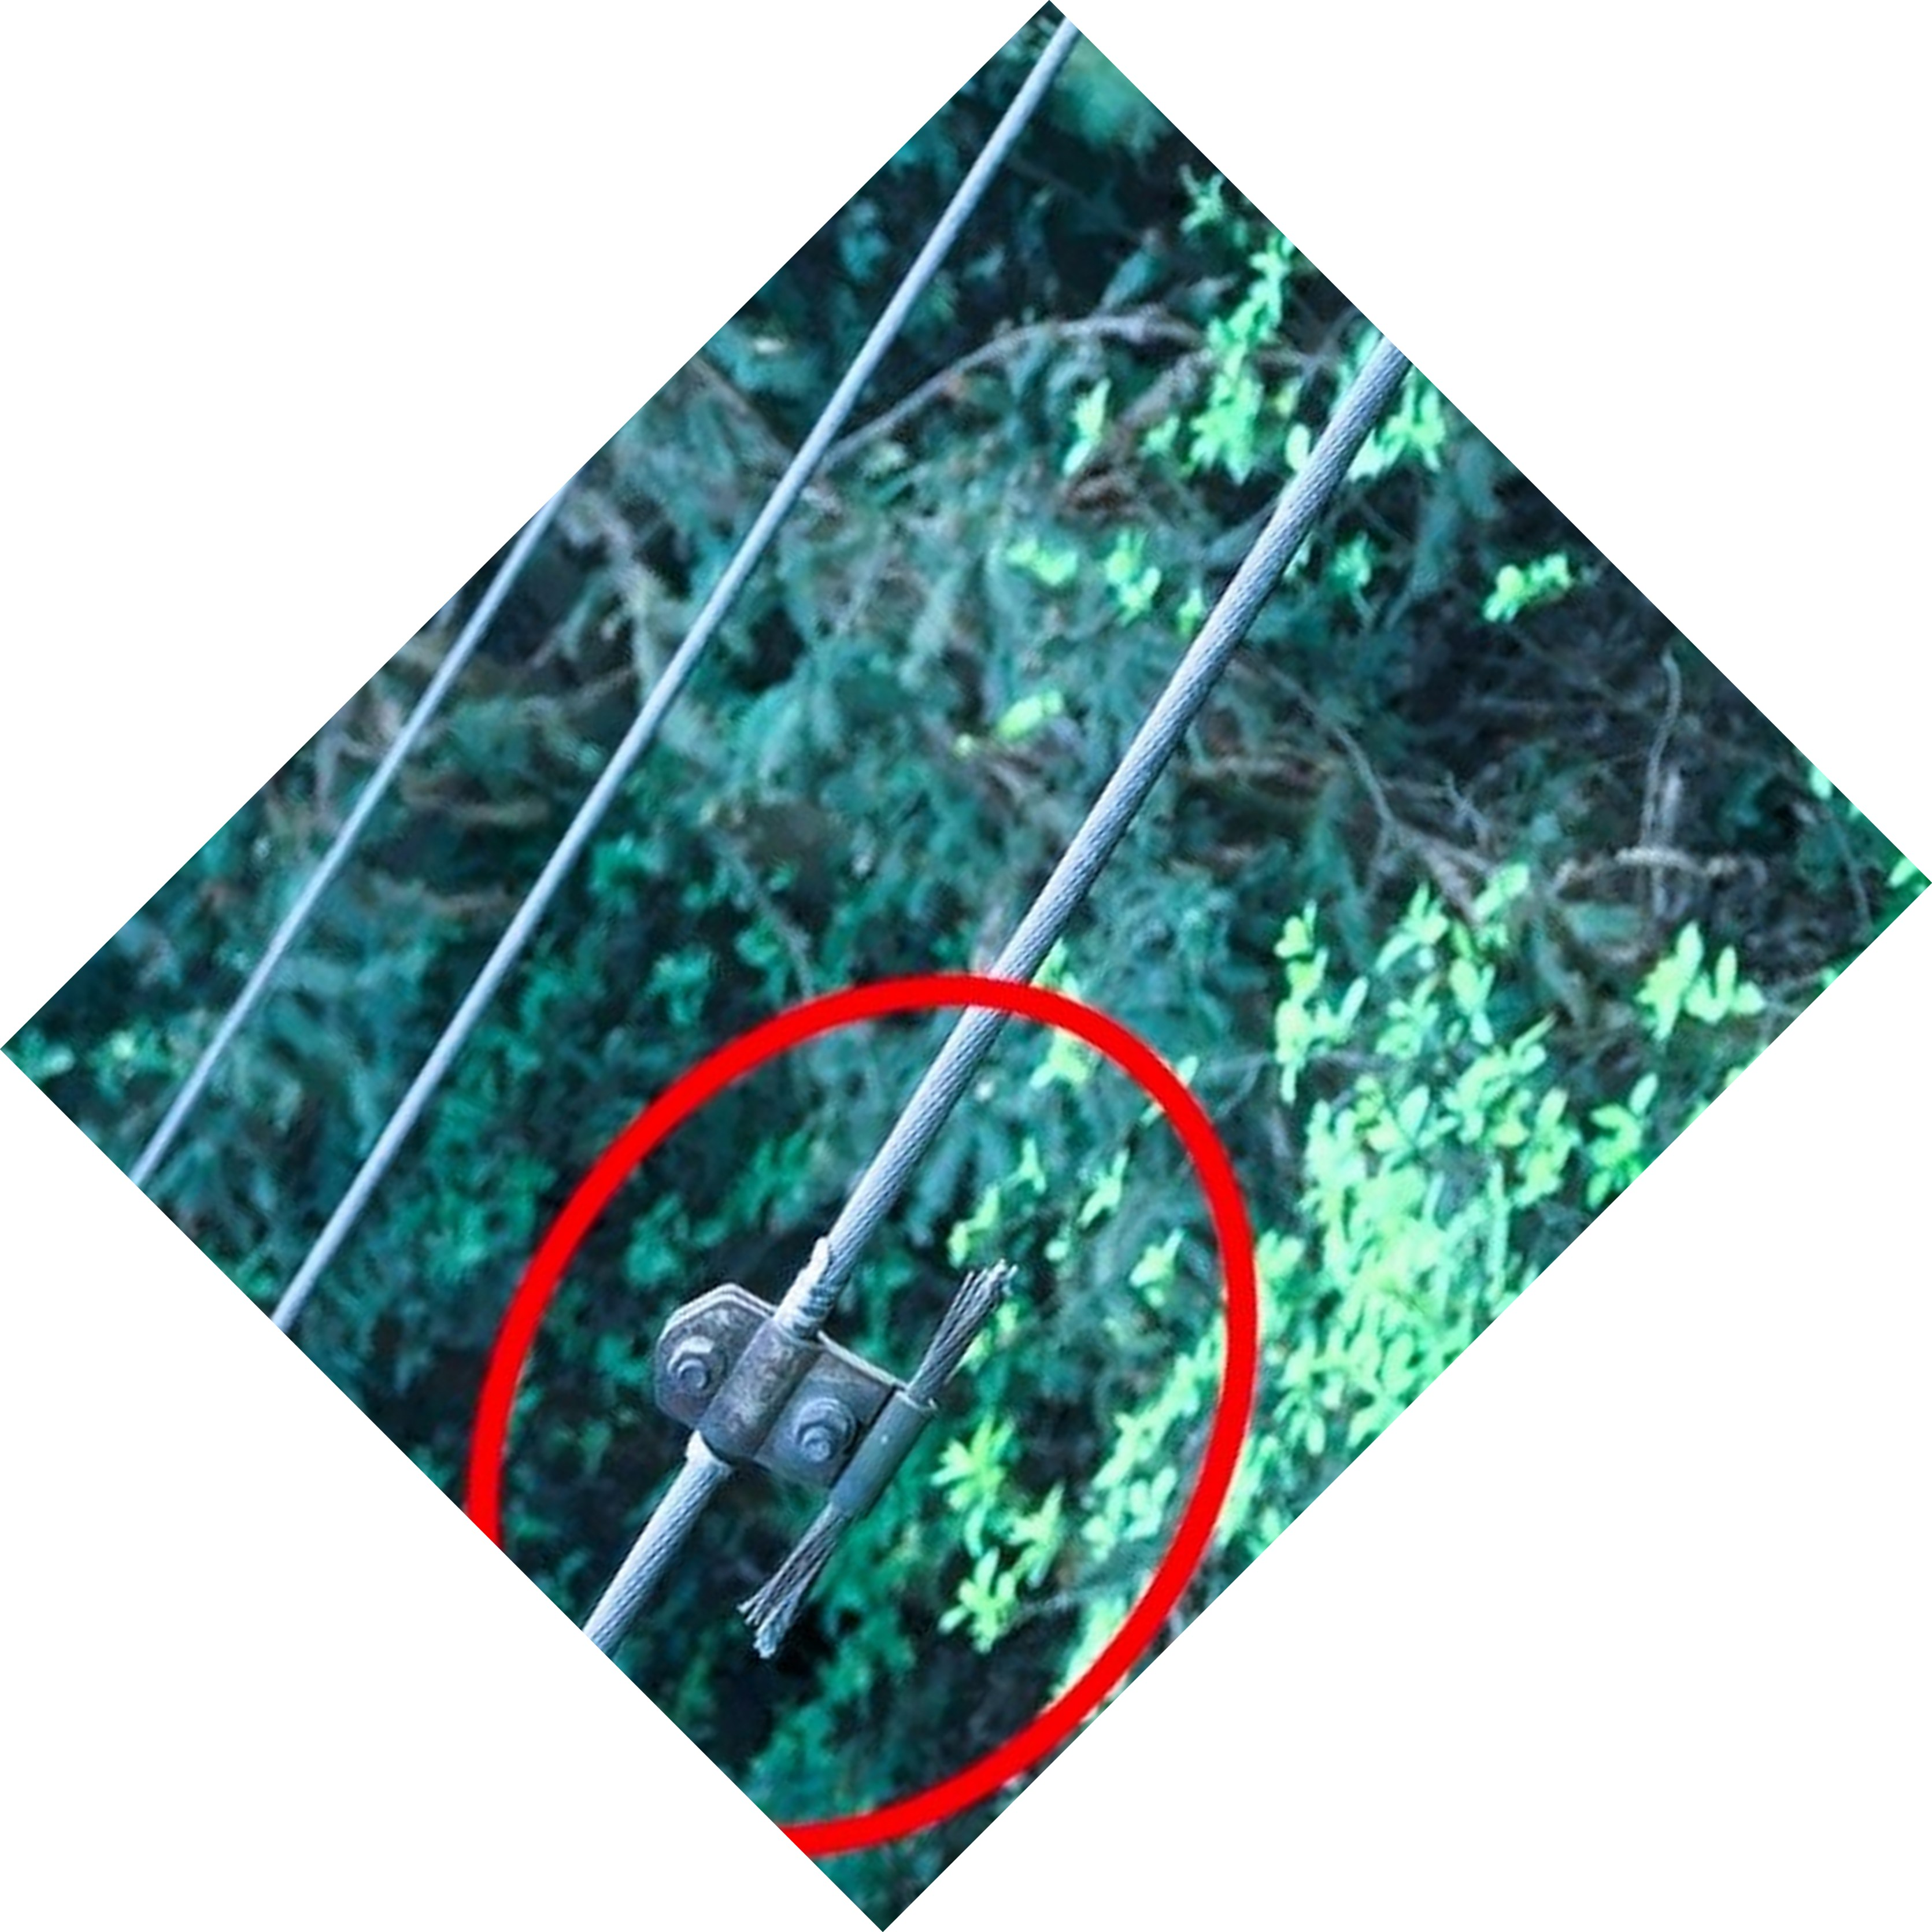Damage of shockproof hammer: (623, 1185, 1053, 1709)
